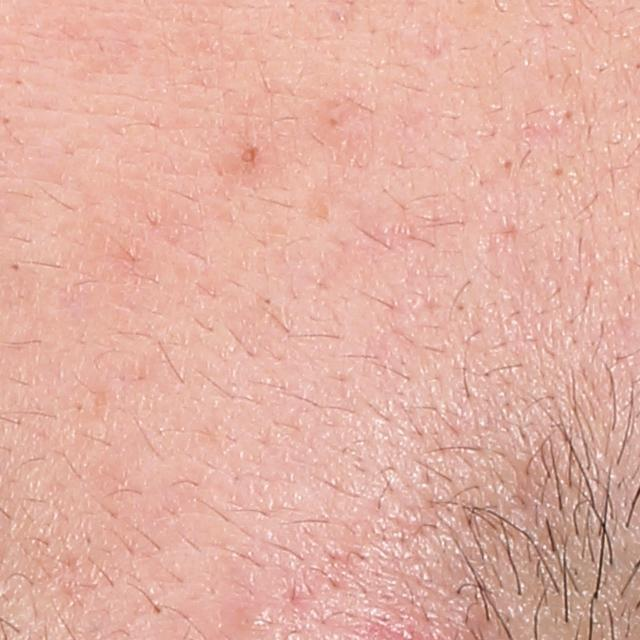comedo: (238, 142, 263, 167), (497, 155, 519, 175)
